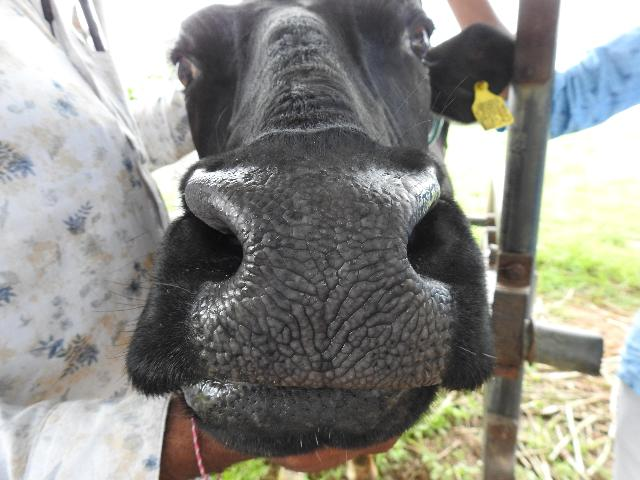Muzzle: (245, 178, 405, 388)
